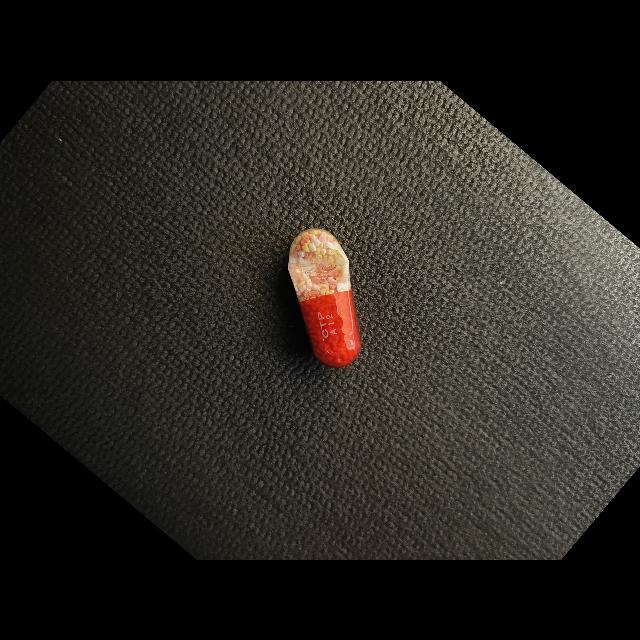Defective Capsule: (288, 228, 361, 367)
